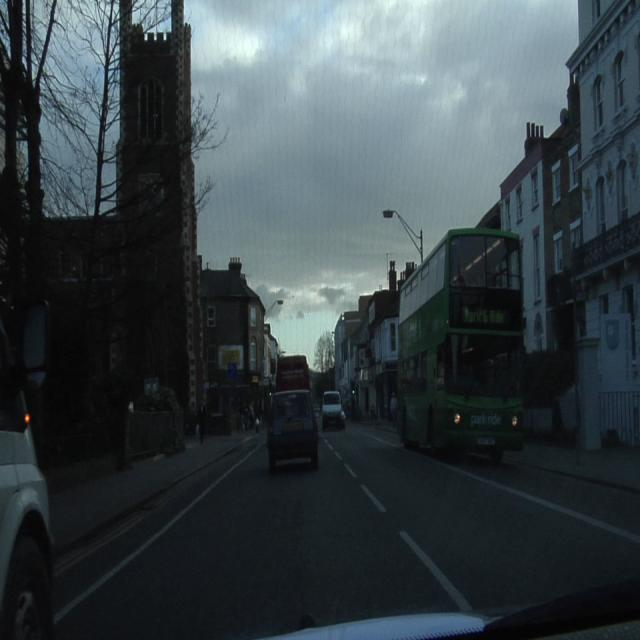Building: (480, 0, 640, 449), (116, 0, 279, 431), (334, 262, 411, 420)
Car: (1, 424, 50, 639), (268, 391, 318, 471), (322, 392, 345, 428)
Road: (53, 423, 639, 637)
Tree: (0, 0, 120, 310)
Truck_Bus: (396, 228, 524, 457)
